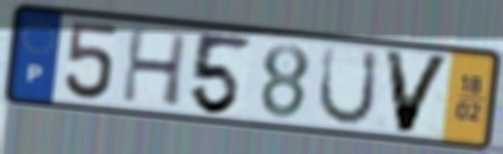5: (185, 29, 256, 116), (64, 19, 122, 103)
8: (256, 38, 314, 123)
H: (119, 25, 191, 109)
U: (314, 43, 382, 128)
V: (380, 47, 455, 136)
